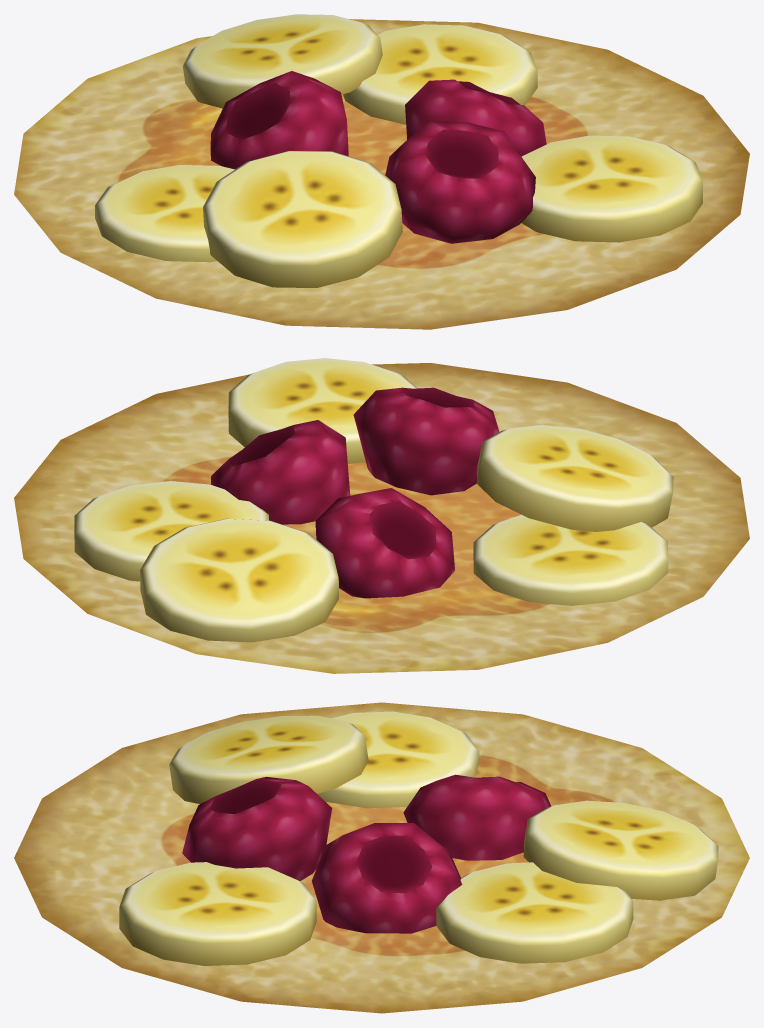
Rendered from Oatmeal_02.fbx.
The picture shows the model from 3 angles, top to bottom: view 1: azimuth 30°, elevation 25°; view 2: azimuth 150°, elevation 25°; view 3: azimuth 270°, elevation 25°; orthographic projection.
Visible parts, largest first — view 1: Oatmeal_02; view 2: Oatmeal_02; view 3: Oatmeal_02.
Boxes of the visible parts, x1=… form: Oatmeal_02: x1=14, y1=14, x2=749, y2=329; Oatmeal_02: x1=14, y1=358, x2=749, y2=673; Oatmeal_02: x1=14, y1=702, x2=749, y2=1013.
Bounding box in the file's own units: 51.04 × 7.21 × 51.04.
